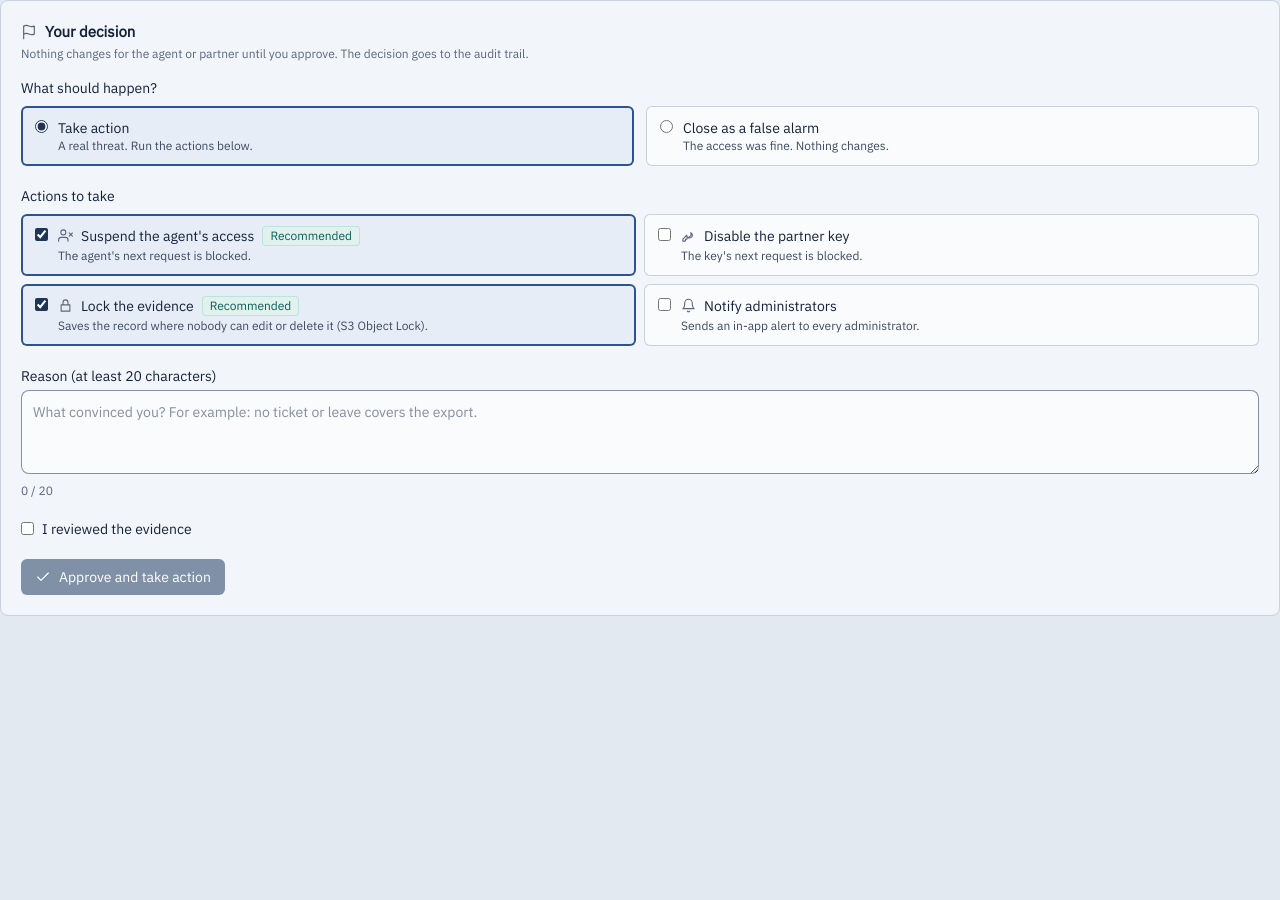
Test: approve with a 422 › shows the backend's message
Replace the text in the text box with "Export far above his baseline, suspend now": x=640, y=432 top-left (21, 390), bottom-right (1259, 474)
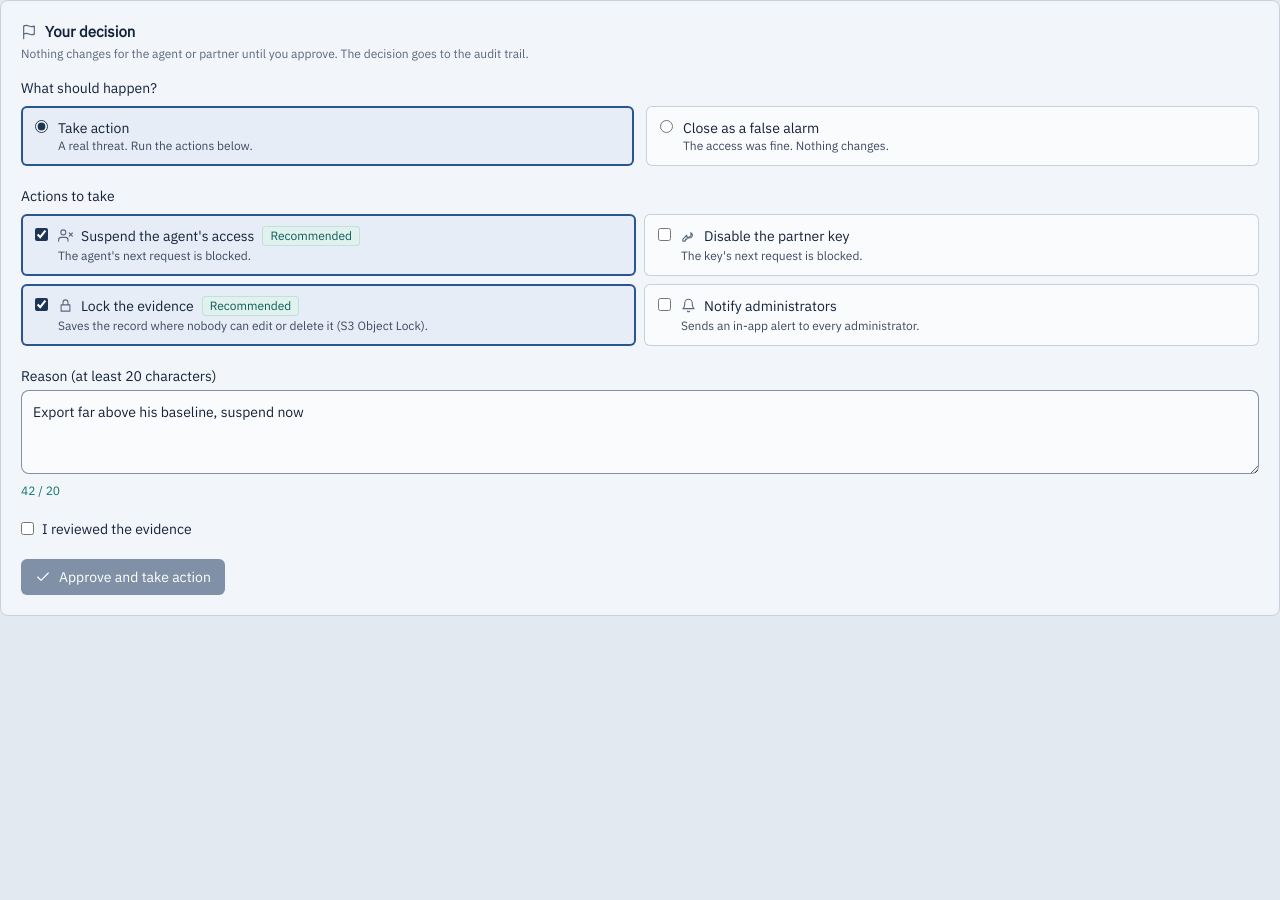
Click the checkbox labelled "I reviewed the evidence": x=28, y=528 top-left (21, 522), bottom-right (34, 535)
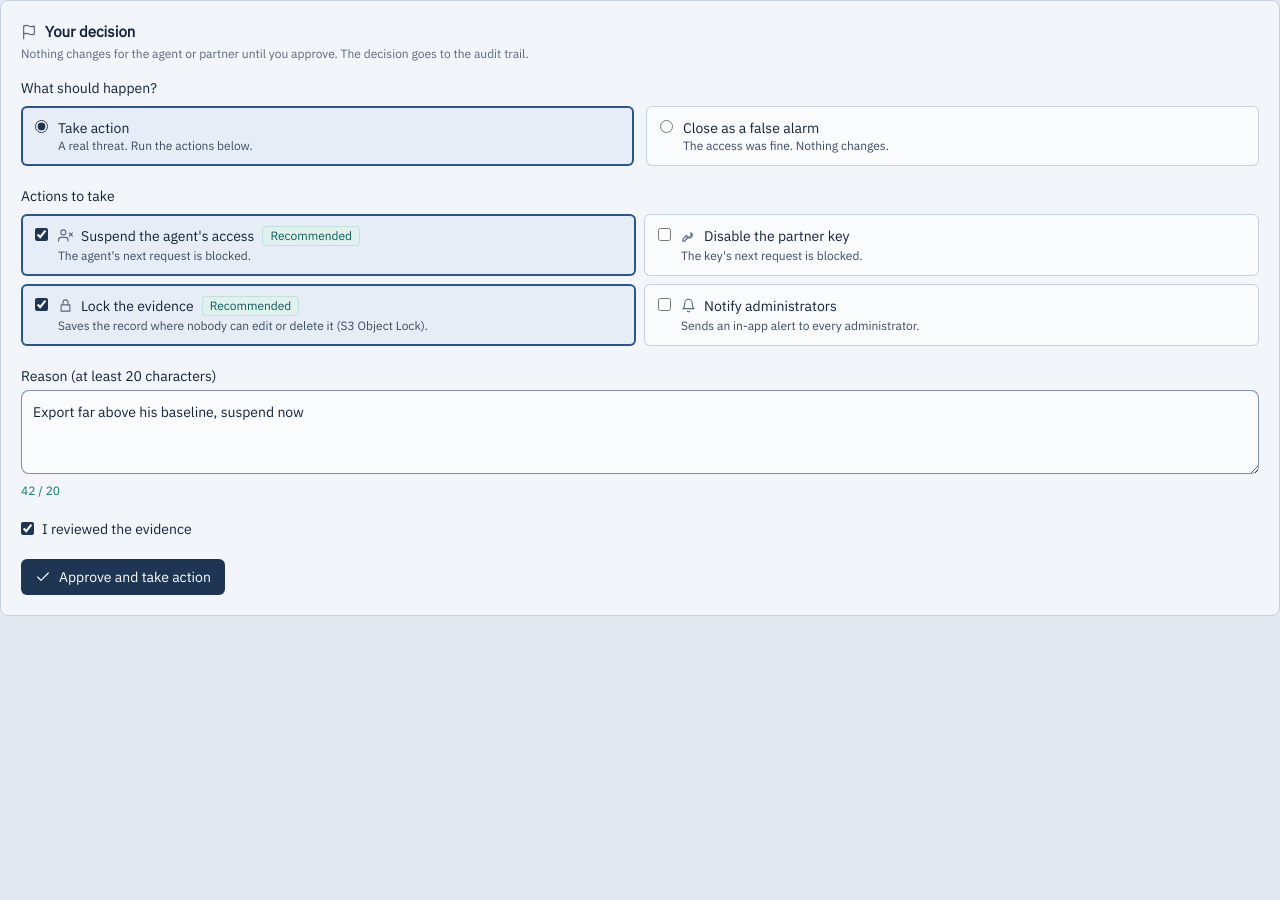
Click the button "Approve and take action": x=123, y=576 top-left (21, 558), bottom-right (225, 594)
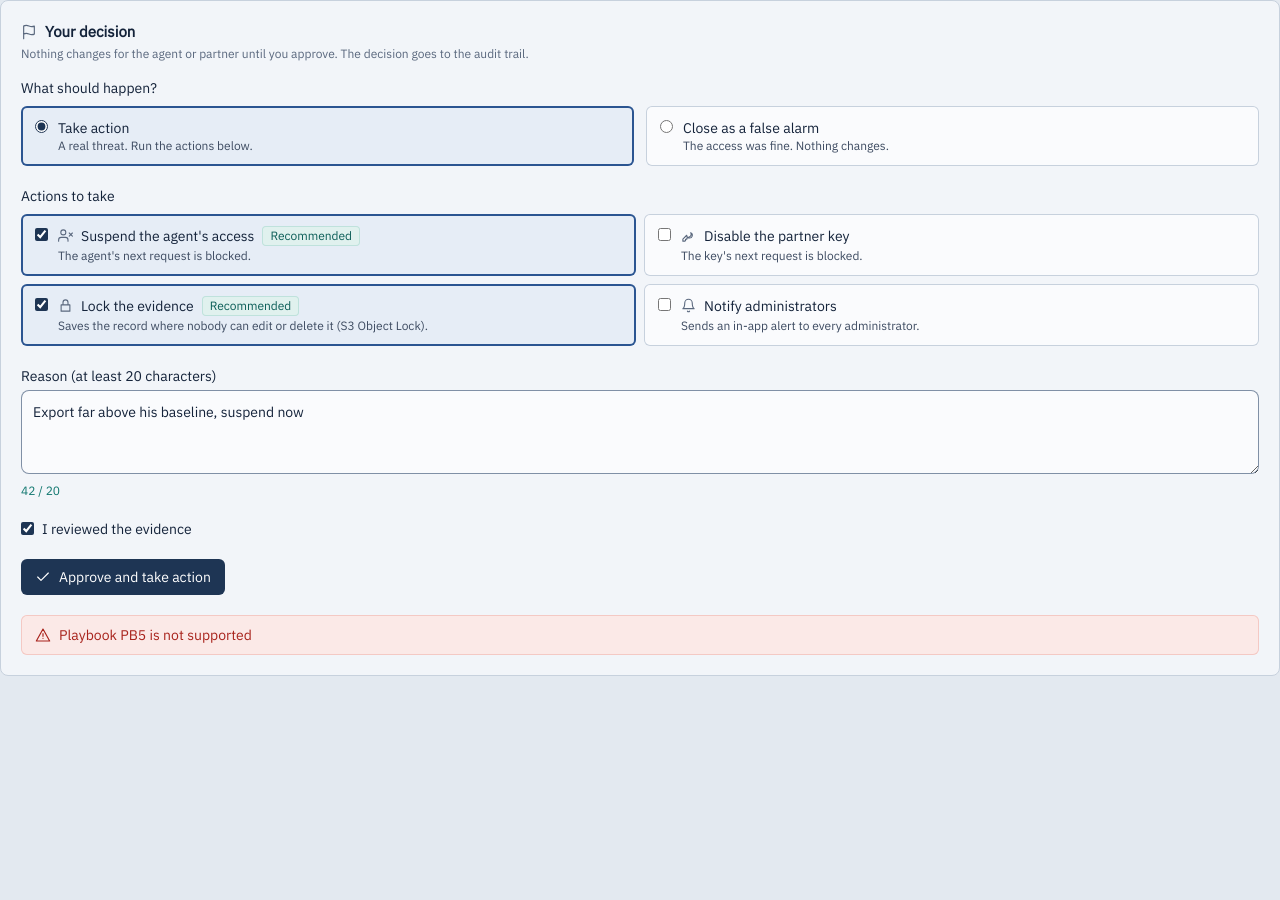
Now the text "Playbook PB5 is not supported" is shown, box top-left (59, 624), bottom-right (252, 644)
